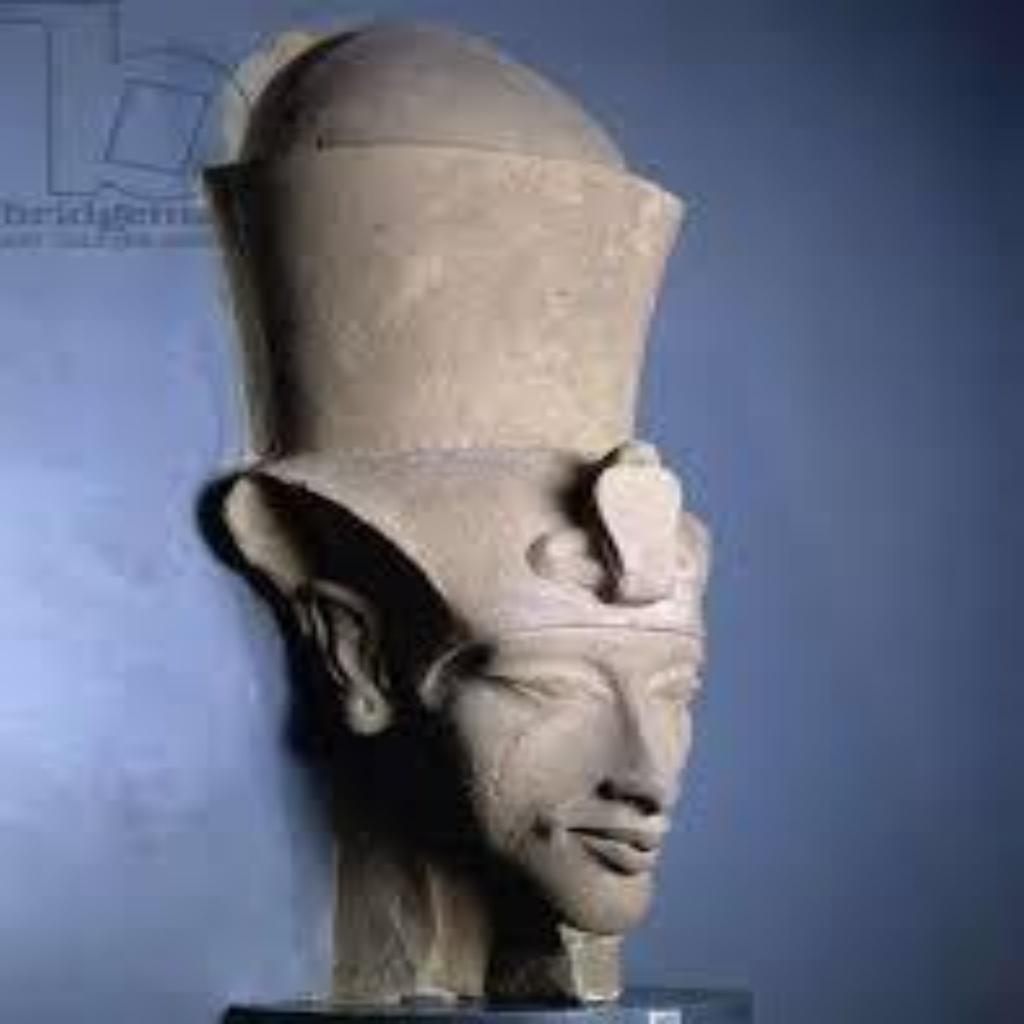Akhenaten: (198, 12, 722, 1016)
